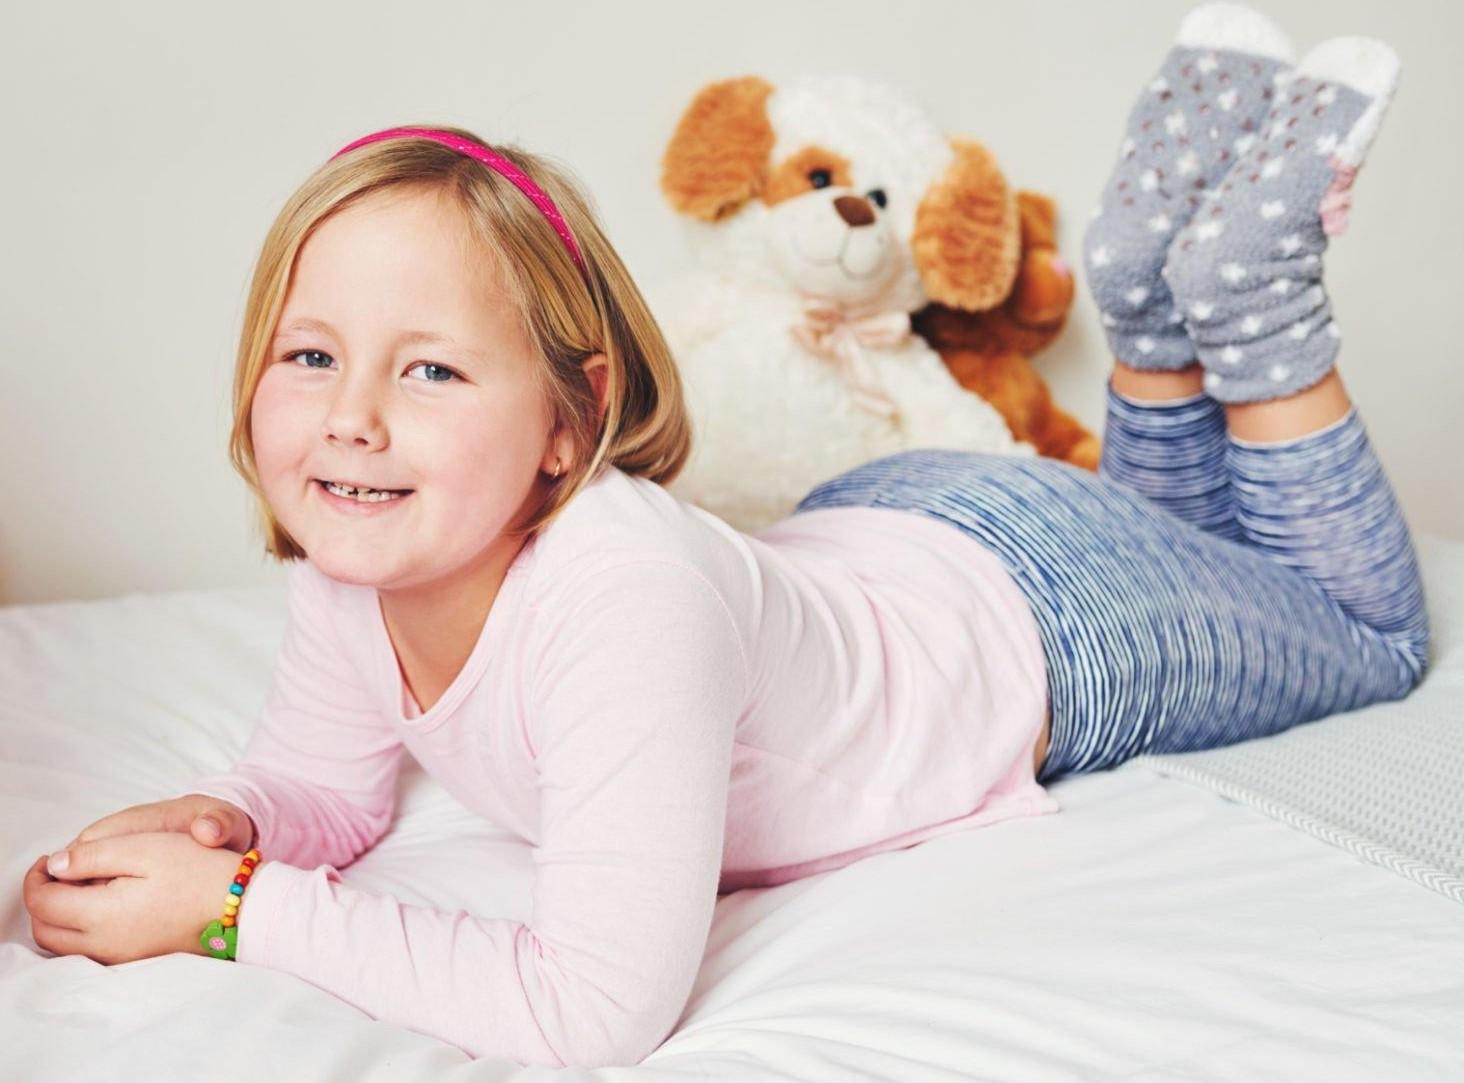Healthy: (231, 171, 587, 600)
